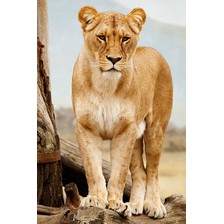lion: (65, 4, 175, 221)
